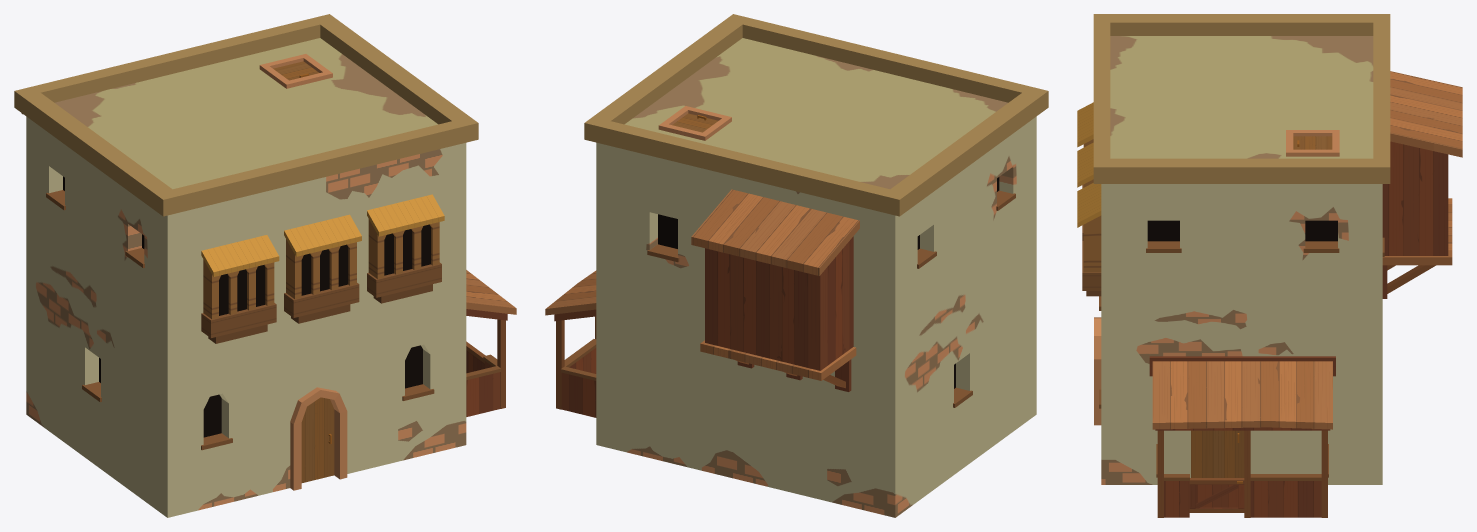
Rendered from Desert Building 01.fbx.
3 views of the same model, side by side, from view 1: azimuth 30°, elevation 25°; view 2: azimuth 150°, elevation 25°; view 3: azimuth 270°, elevation 25° (orthographic).
Parts seen in each view (by area): view 1: Desert_Building_01, Door_01; view 2: Desert_Building_01; view 3: Desert_Building_01, Door_02, Gate.
Part boxes in pixels (bbox=[...]): Desert_Building_01: bbox=[14, 14, 516, 517]; Door_01: bbox=[301, 397, 334, 482]; Desert_Building_01: bbox=[545, 14, 1048, 517]; Desert_Building_01: bbox=[1077, 14, 1462, 517]; Door_02: bbox=[1191, 430, 1244, 477]; Gate: bbox=[1189, 478, 1244, 512].
Bounding box in the file's own units: 989 × 797 × 865.
